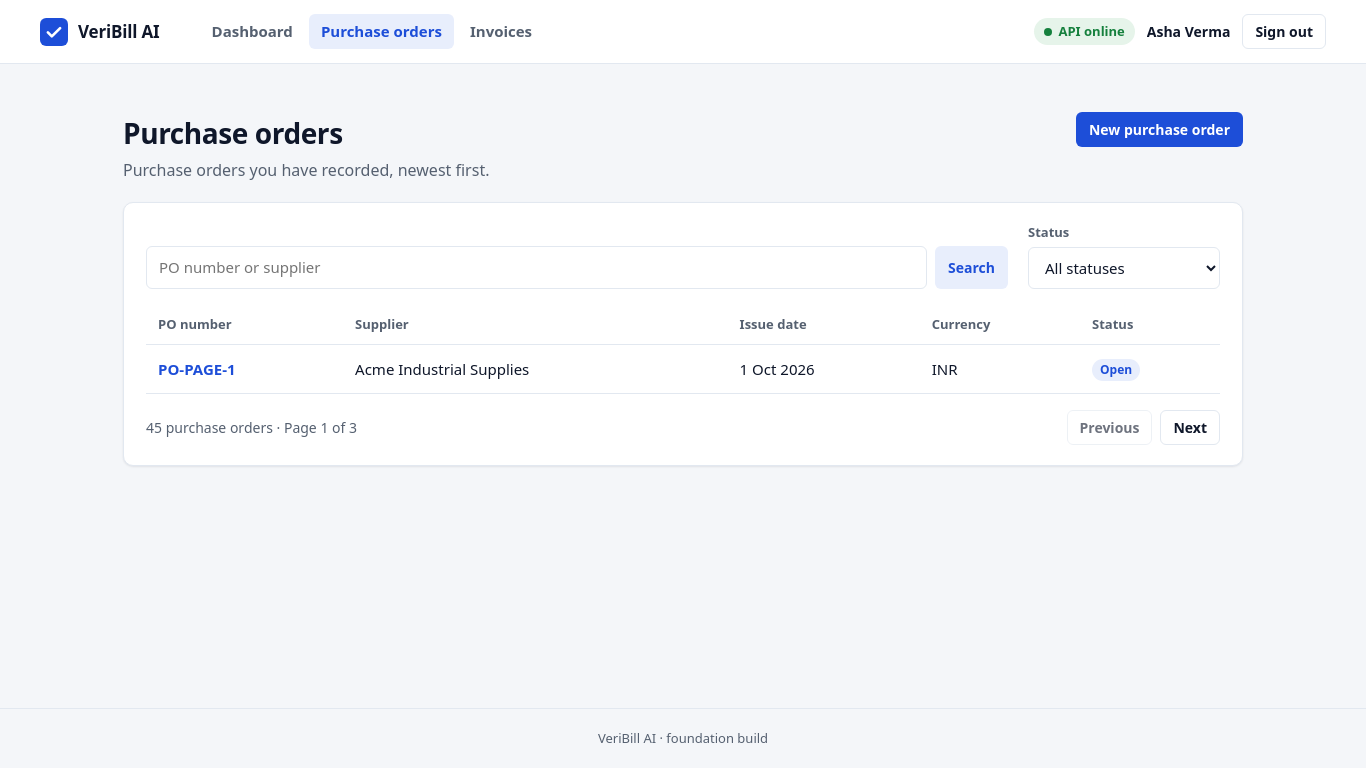
Test: PurchaseOrdersPage › sends search, status and page changes to the API
The width and height of the screenshot is (1366, 768).
Expected: the link "PO-PAGE-1" is shown, [158,359,236,379]
Expected: the button "Previous" is disabled, [1066,410,1152,445]
Type "  acme " into the search field named "Search purchase orders" at x=537, y=267, box [146,246,927,288]
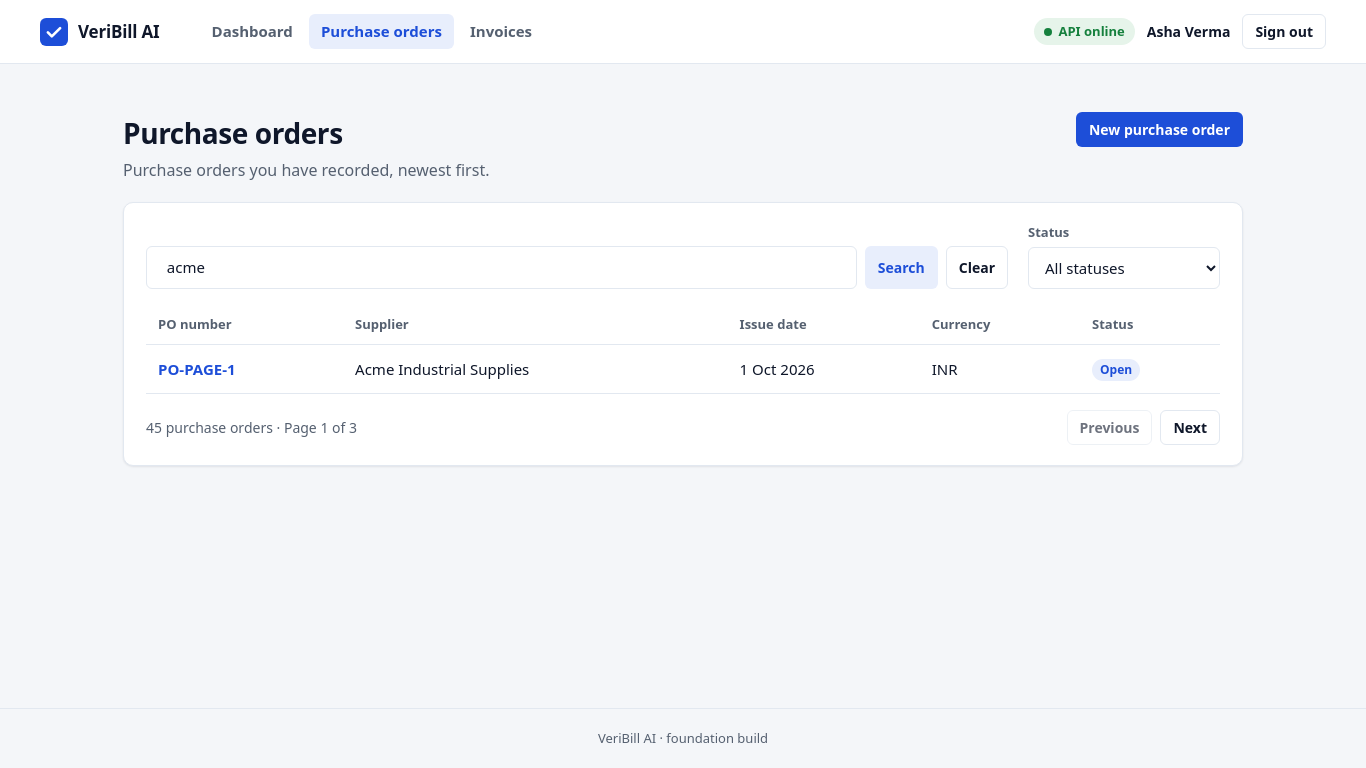
Click the button "Search" at x=901, y=267, box [865,246,938,288]
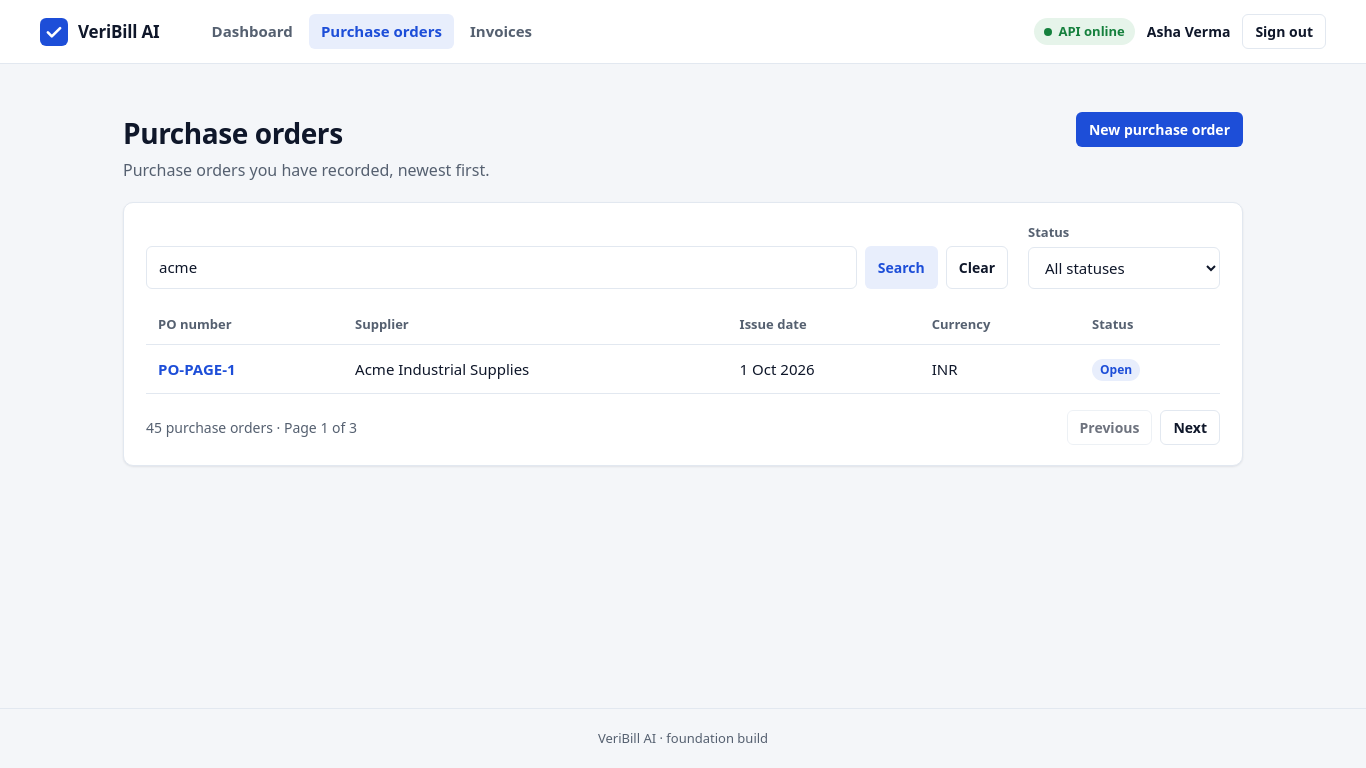
Expected: the text "45 purchase orders · Page 1 of 3" is shown, [146,417,357,438]
Select "Open" in the dropdown labelled "Status" at x=1124, y=268, box [1028,246,1220,288]
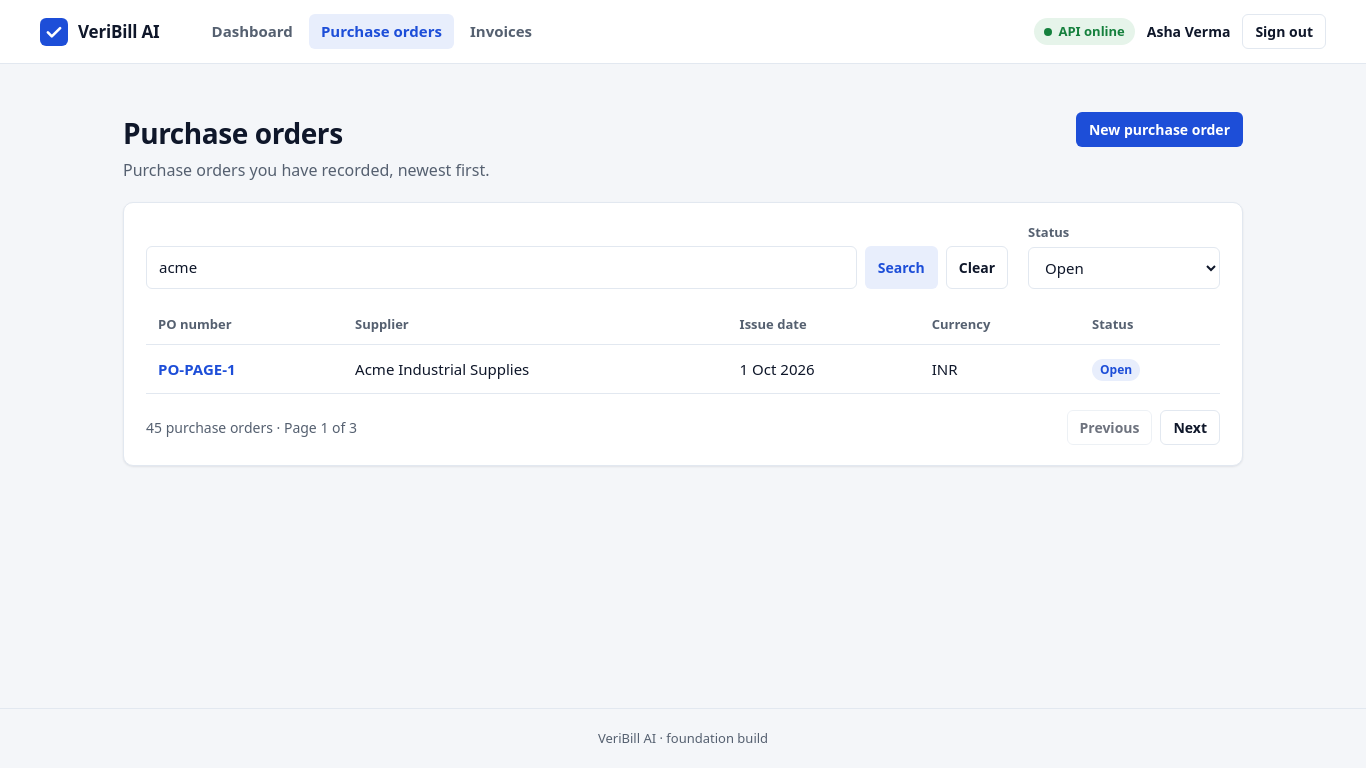
Expected: the link "PO-PAGE-1" is shown, [158,359,236,379]
Click the button "Next" at x=1190, y=428, box [1160,410,1220,445]
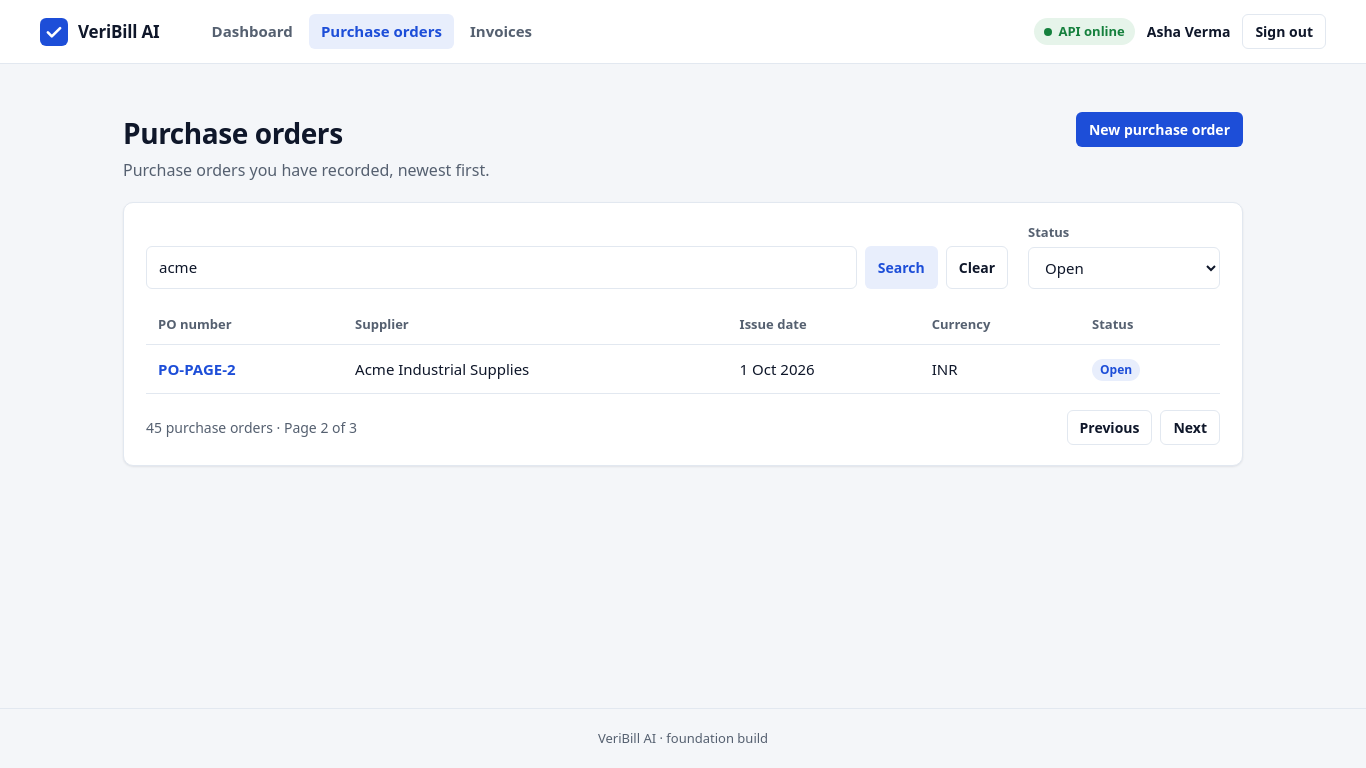
Result: the link "PO-PAGE-2" is shown at [158,359,236,379]
Click the button "Clear" at x=977, y=267, box [946,246,1008,288]
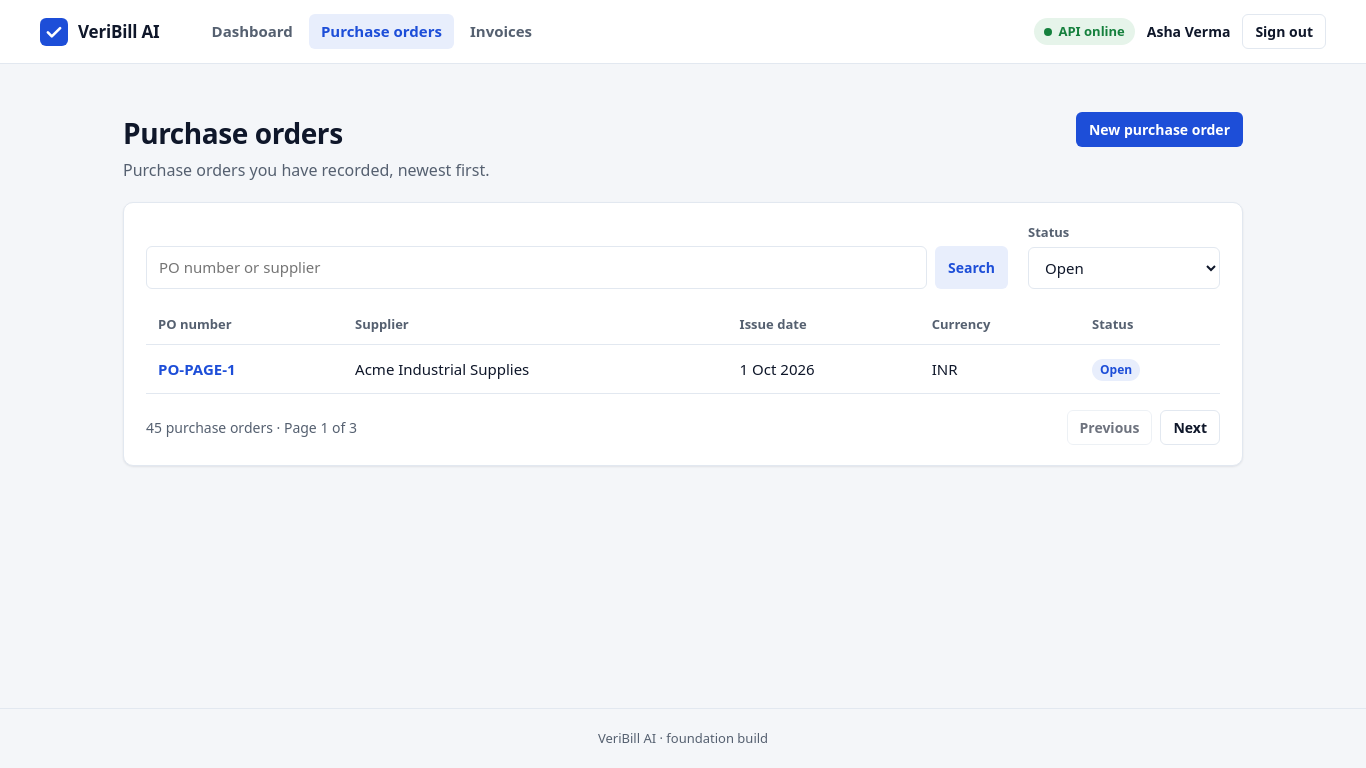
Result: the link "PO-PAGE-1" is shown at [158,359,236,379]
Result: the search field named "Search purchase orders" is empty at [146,246,927,288]
